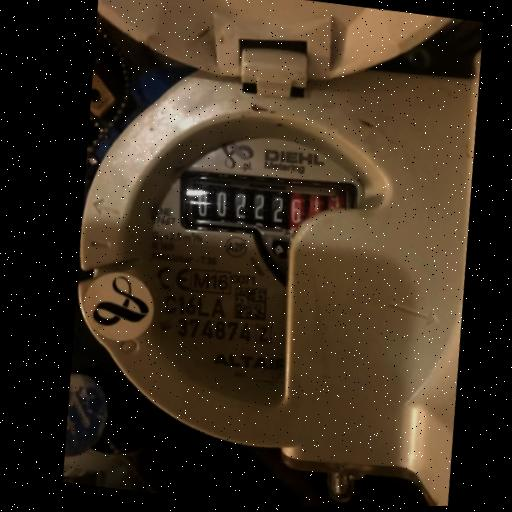0: (208, 185, 237, 223), (188, 183, 216, 221)
1: (303, 193, 327, 222)
2: (263, 190, 291, 229), (227, 187, 255, 225), (247, 188, 273, 227)
6: (283, 192, 310, 232)
9: (323, 187, 350, 213)
border_water_meter_number: (178, 161, 360, 247)
